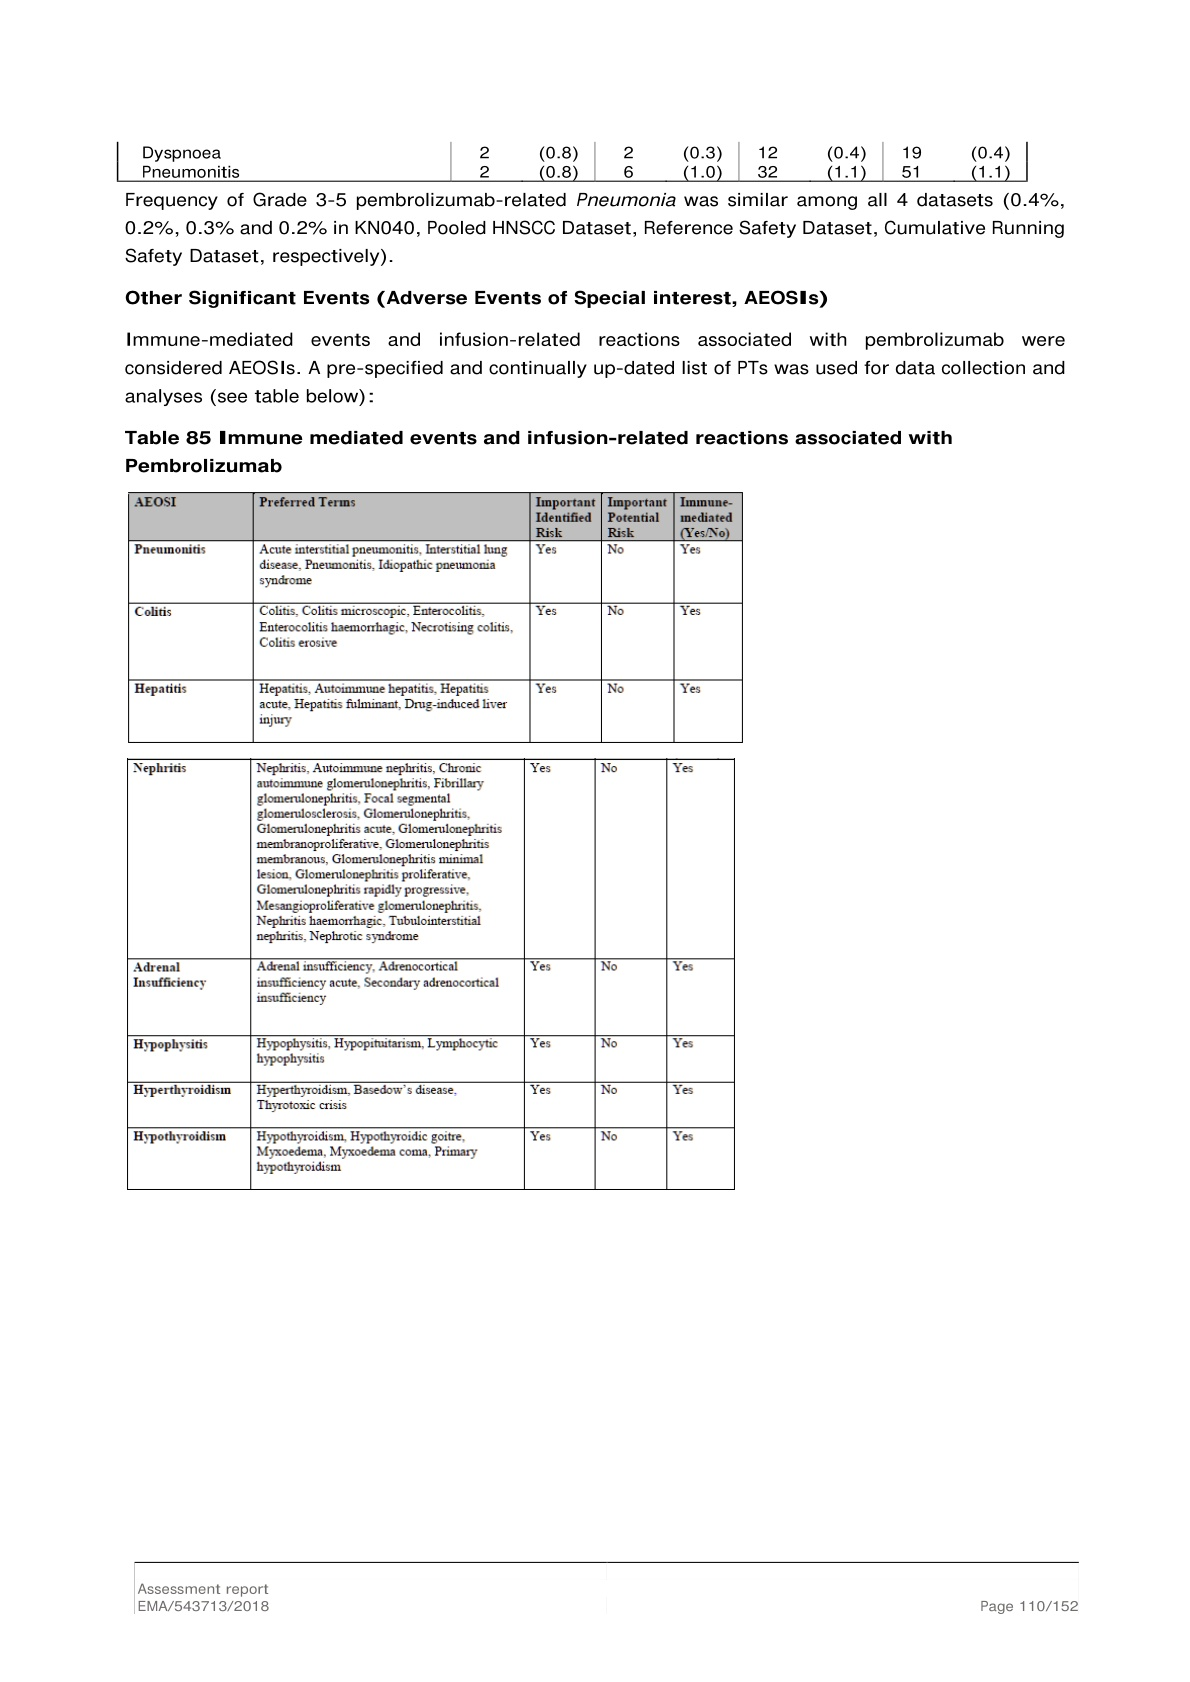full_lined: (127, 753, 737, 1190), (125, 491, 748, 742)
partial_lined: (116, 137, 1030, 184)
